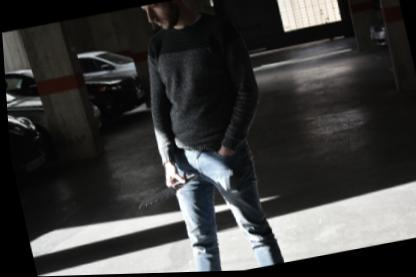knife: (126, 170, 200, 211)
